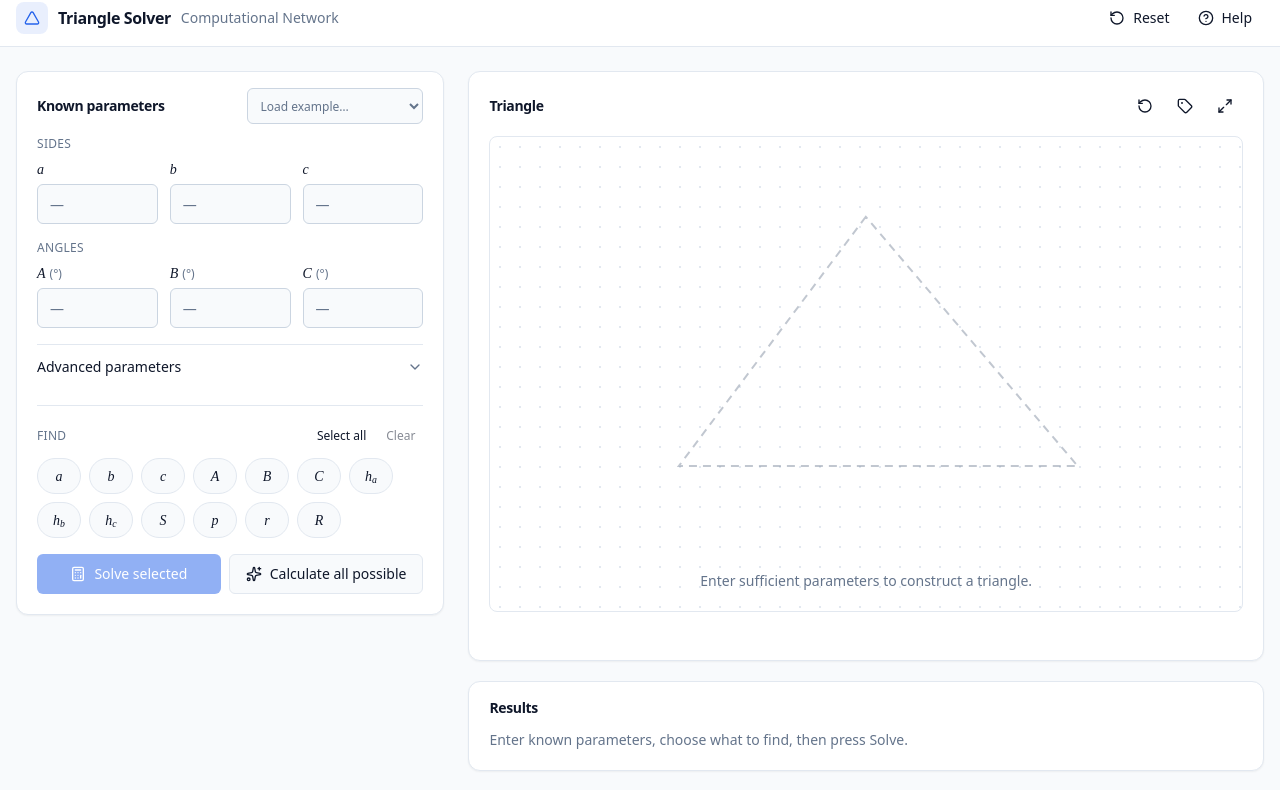
Test: App › marks results stale when targets change
Type "3" into the field with id "input-a".
click(97, 204); type("3")  # box [37, 184, 158, 224]
Type "4" into the field with id "input-b".
click(230, 204); type("4")  # box [170, 184, 291, 224]
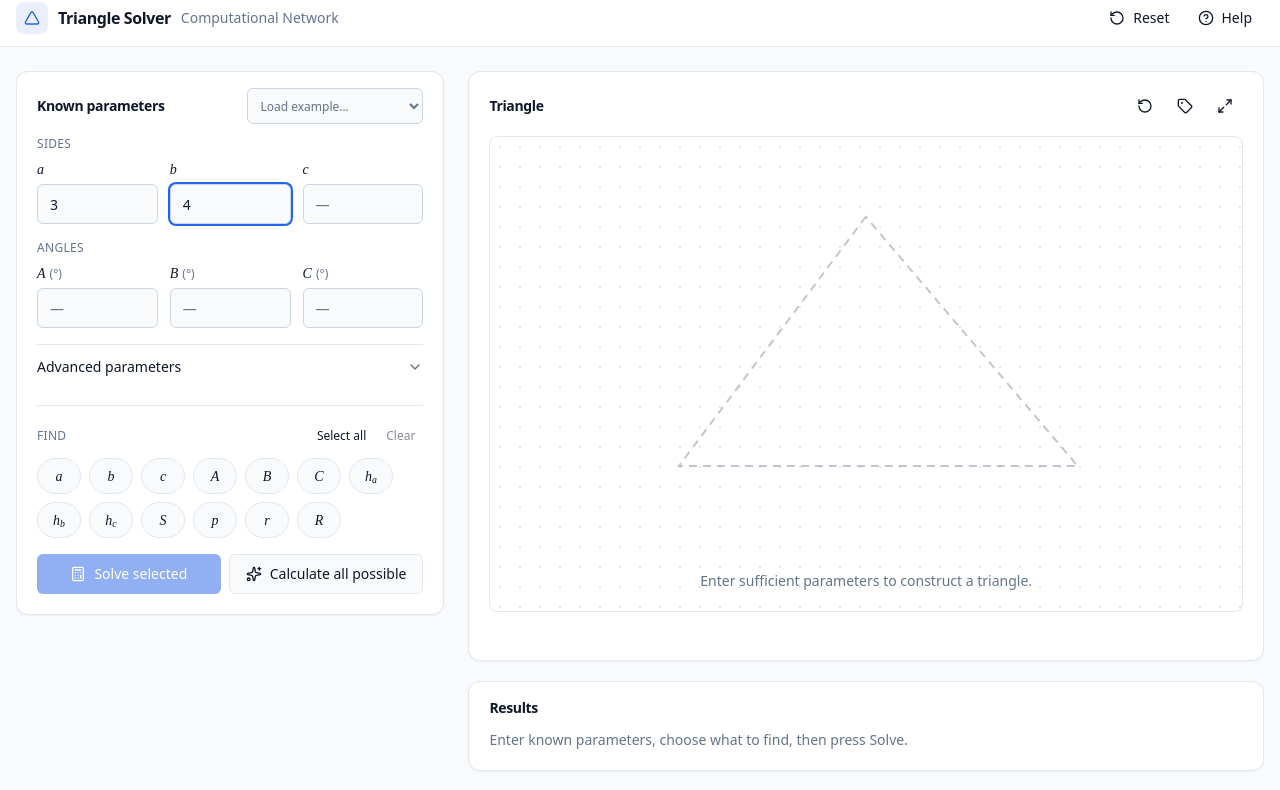
Type "5" into the field with id "input-c".
click(363, 204); type("5")  # box [303, 184, 423, 224]
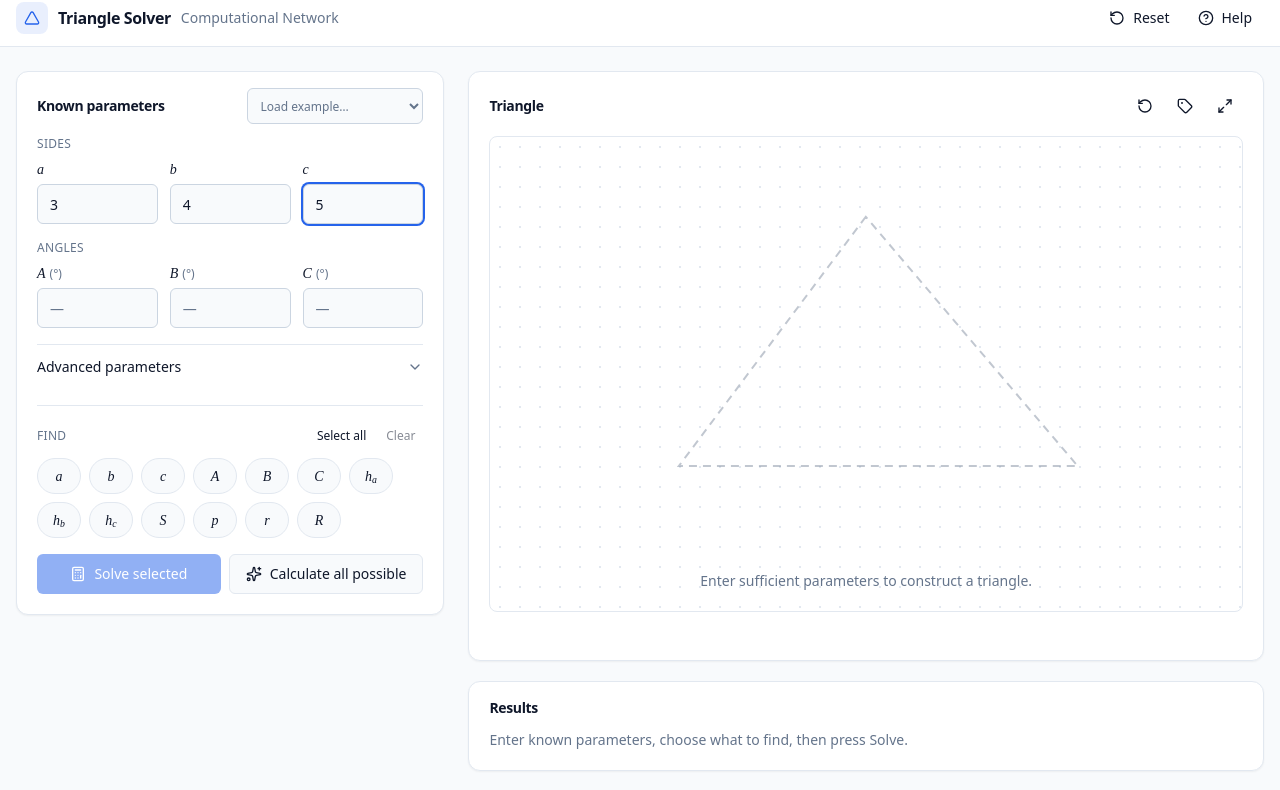
Click the button "S".
click(163, 520)  # box [141, 502, 185, 538]
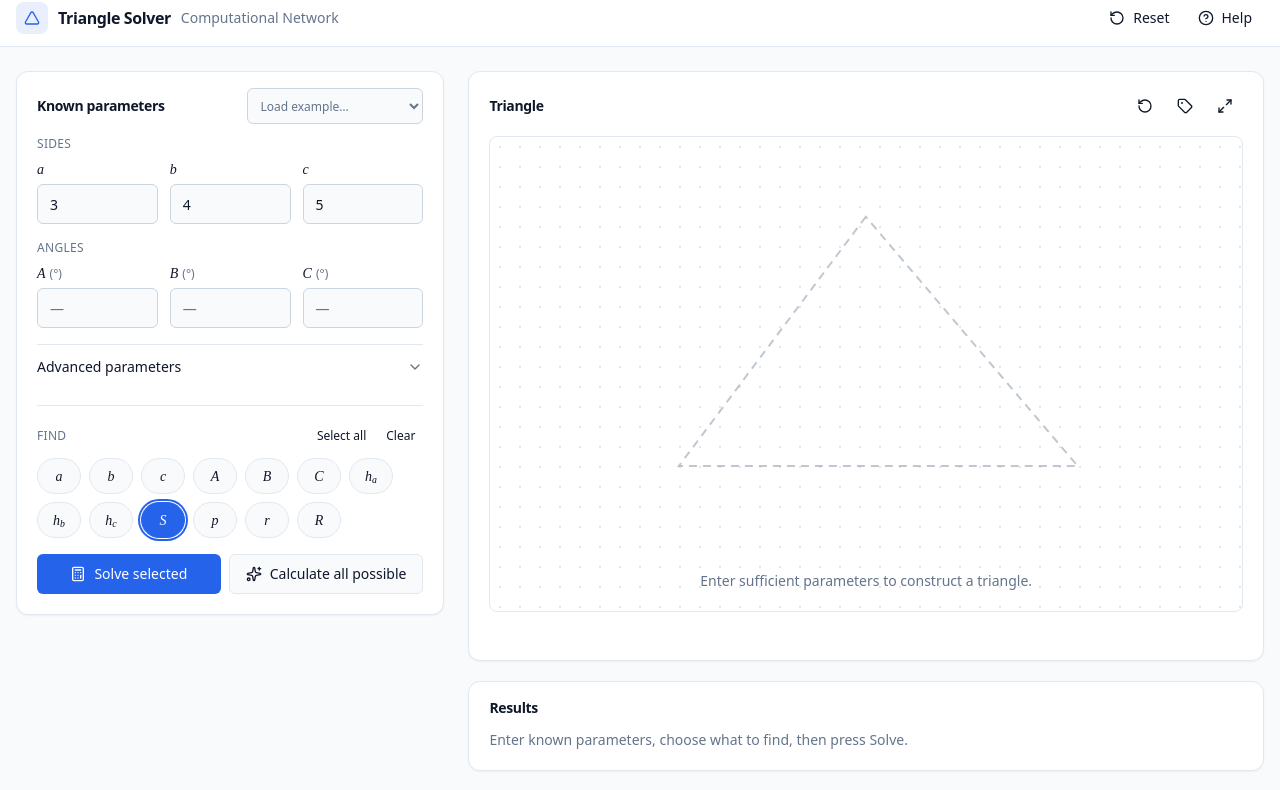
Click the button "hc".
click(111, 520)  # box [89, 502, 133, 538]
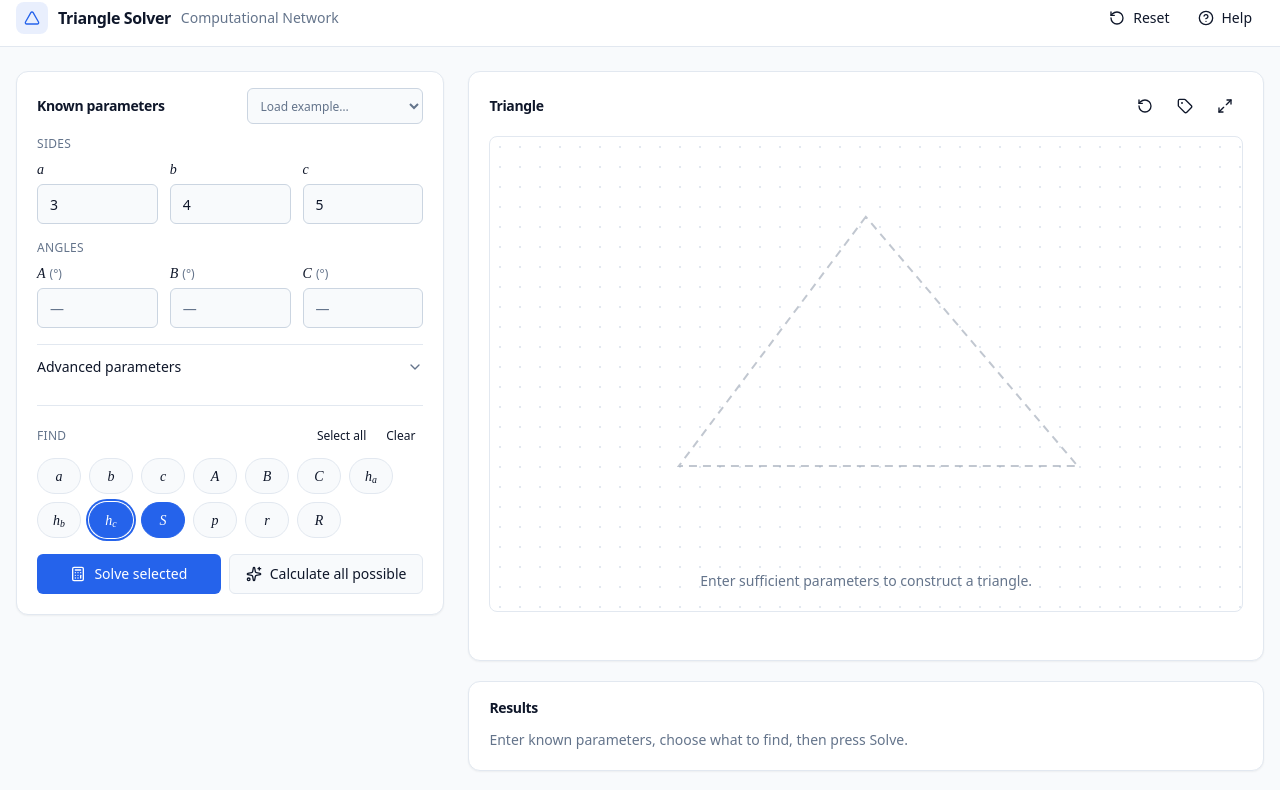
Click the button "Solve selected".
click(129, 574)  # box [37, 554, 221, 594]
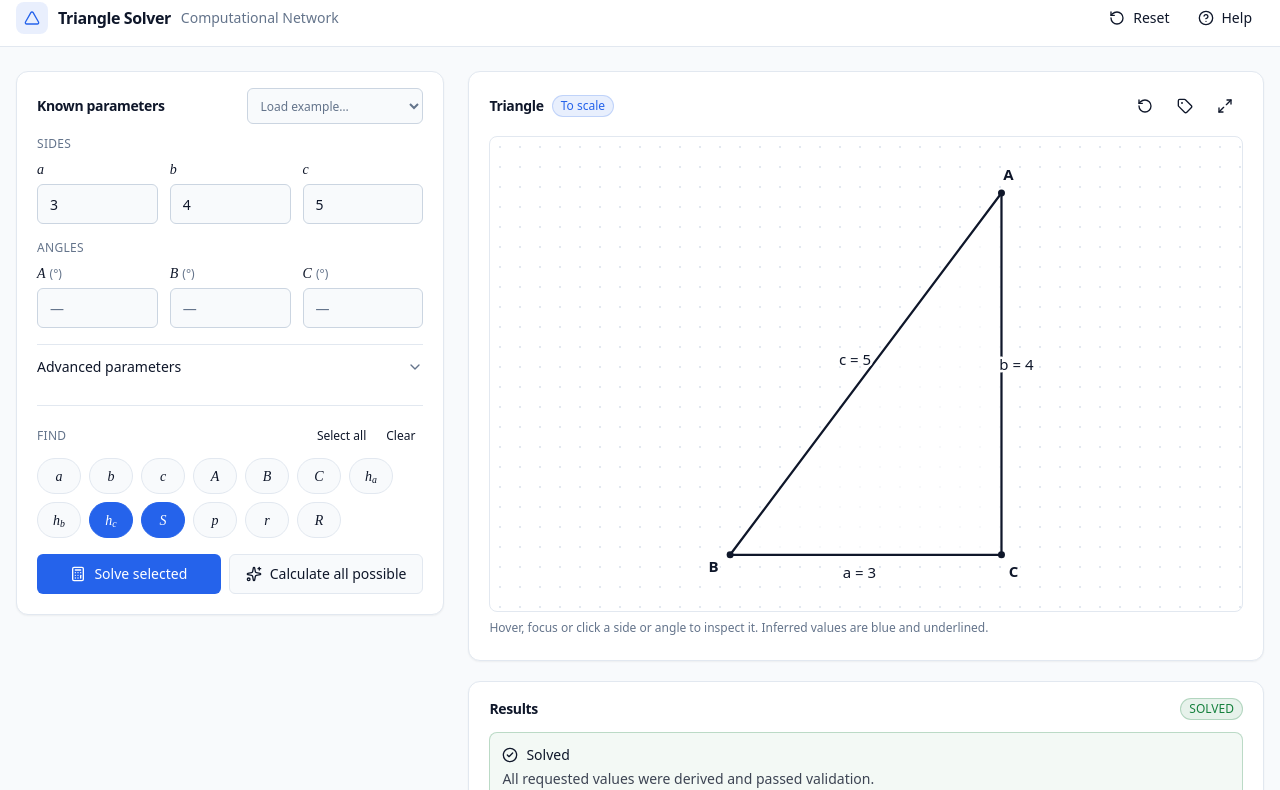
Check: the text "SOLVED" is shown, box [1180, 698, 1243, 720]
Click the button "a".
click(59, 476)  # box [37, 458, 81, 494]
(page scrolled)
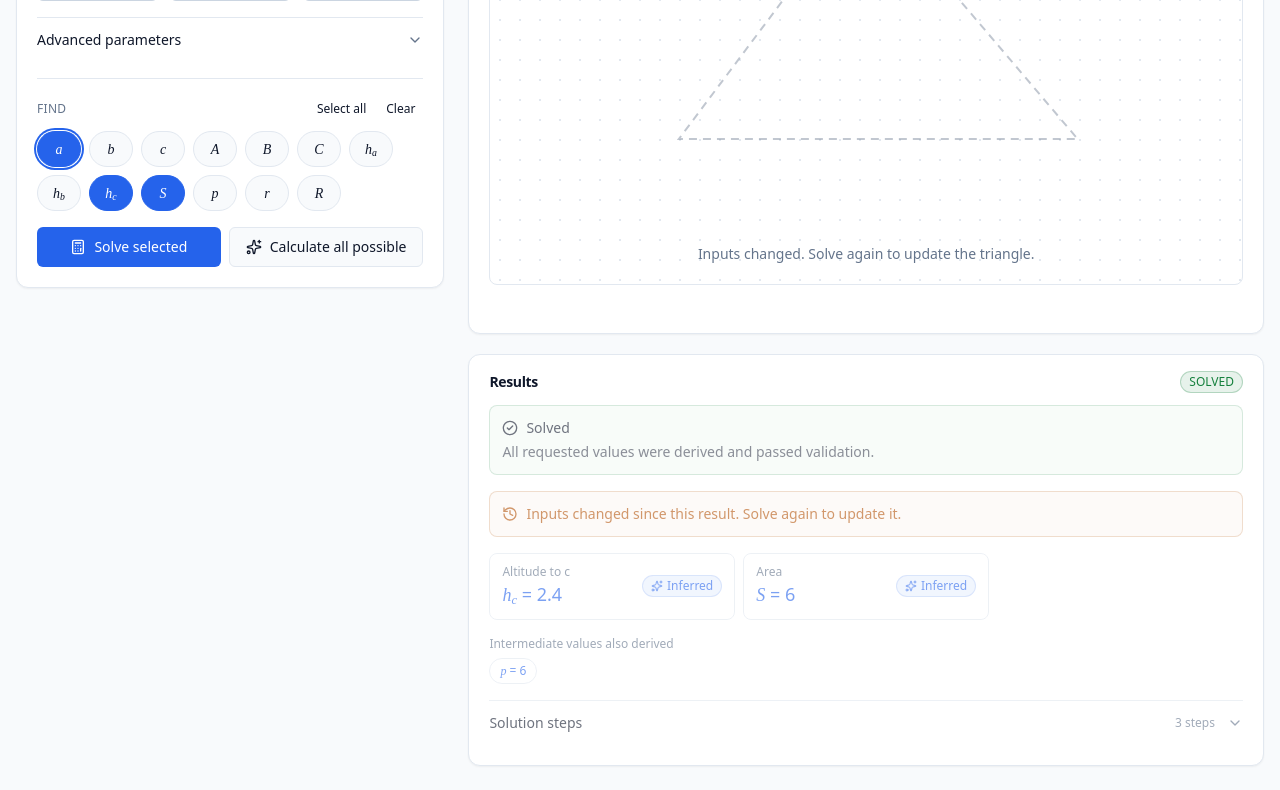
Check: the message "Inputs changed since this result. Solve again to update it." is shown, box [489, 491, 1243, 537]
Check: the icon with test id "triangle-svg" is gone
